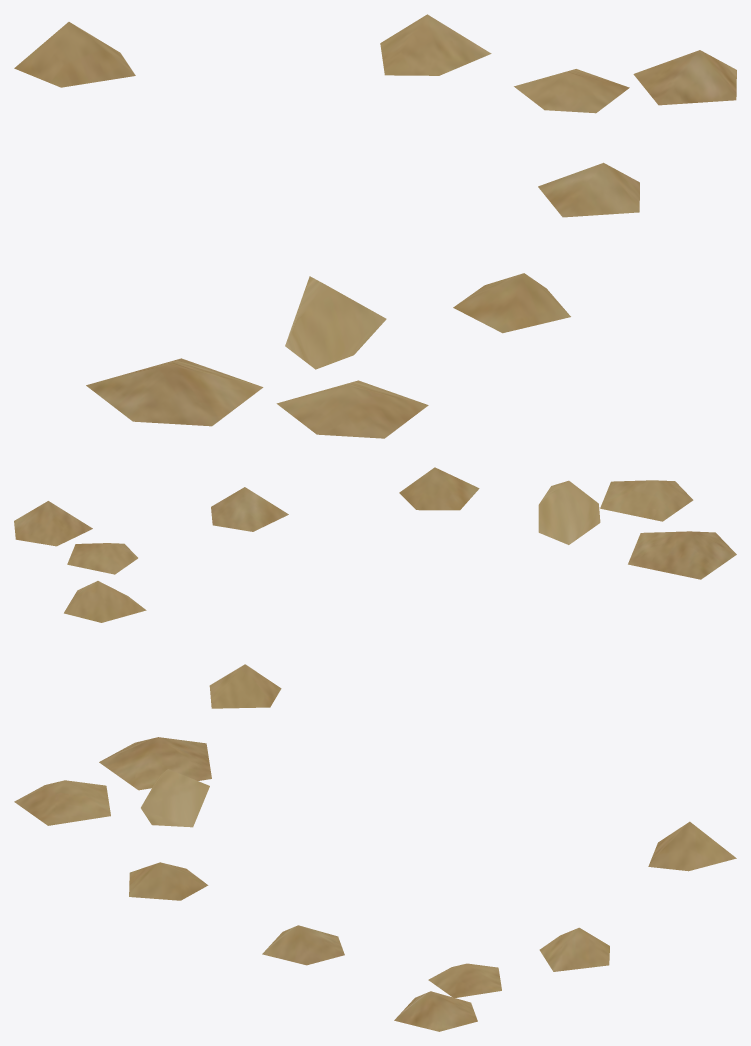
File: rock_dfield2_hdtex.glb
The picture shows the model from 3 angles, top to bottom: view 1: azimuth 30°, elevation 25°; view 2: azimuth 150°, elevation 25°; view 3: azimuth 270°, elevation 25°; orthographic projection. The views are drawn at different scales.
Visible parts, largest first — view 1: Rock_GField1; view 2: Rock_GField1; view 3: Rock_GField1.
Part boxes in pixels (bbox=[...]): Rock_GField1: bbox=[14, 14, 736, 438]; Rock_GField1: bbox=[14, 467, 736, 708]; Rock_GField1: bbox=[14, 737, 736, 1031].
Size of the model in its own units: 20.6 by 1.74 by 21.68.
1 material, 1 textured.
